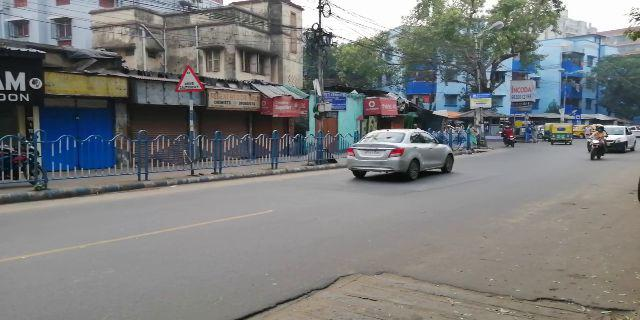Autorickshaw: (549, 119, 573, 147)
Car: (346, 127, 460, 183), (602, 123, 635, 156)
Motorbike: (585, 124, 608, 160)
